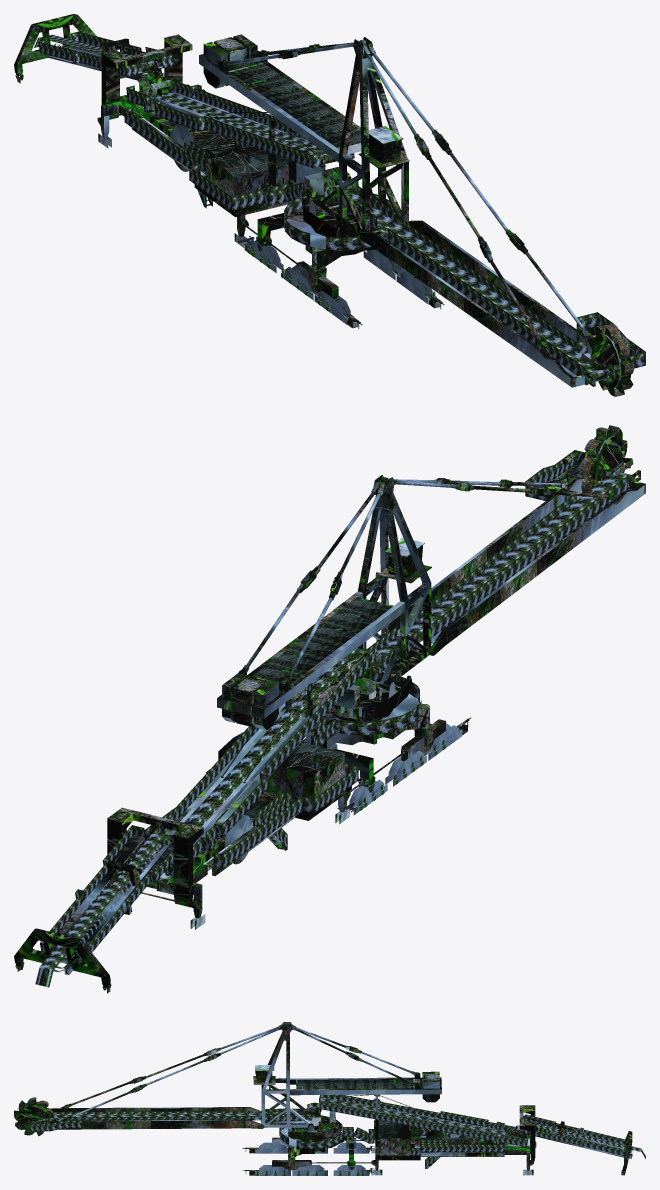
Rendered from DuiQuLiao.fbx.
The picture shows the model from 3 angles, top to bottom: view 1: azimuth 30°, elevation 25°; view 2: azimuth 150°, elevation 25°; view 3: azimuth 270°, elevation 25°; orthographic projection. The views are drawn at different scales.
Parts seen in each view (by area): view 1: fuyang, duiquliaoji, weiche, huizhuan, pidai2, weiche2, pidai3, doulun; view 2: fuyang, duiquliaoji, weiche, huizhuan, pidai3, pidai2, weiche2, doulun; view 3: fuyang, duiquliaoji, weiche, huizhuan, pidai2, pidai3, doulun, weiche2.
Boxes of the visible parts, left/top/right/bottom form: fuyang: left=199, top=34, right=645, bottom=387; duiquliaoji: left=97, top=70, right=444, bottom=329; weiche: left=14, top=14, right=174, bottom=83; huizhuan: left=284, top=172, right=393, bottom=250; pidai2: left=350, top=193, right=607, bottom=381; weiche2: left=101, top=34, right=192, bottom=119; pidai3: left=149, top=91, right=336, bottom=163; doulun: left=588, top=324, right=634, bottom=396; fuyang: left=217, top=440, right=645, bottom=730; duiquliaoji: left=144, top=647, right=471, bottom=929; weiche: left=14, top=825, right=173, bottom=993; huizhuan: left=315, top=675, right=421, bottom=735; pidai3: left=173, top=648, right=360, bottom=835; pidai2: left=362, top=472, right=631, bottom=679; weiche2: left=107, top=807, right=203, bottom=907; doulun: left=579, top=425, right=627, bottom=492; fuyang: left=29, top=1022, right=441, bottom=1131; duiquliaoji: left=242, top=1094, right=536, bottom=1175; weiche: left=522, top=1114, right=645, bottom=1175; huizhuan: left=279, top=1111, right=342, bottom=1148; pidai2: left=50, top=1112, right=312, bottom=1120; pidai3: left=319, top=1097, right=527, bottom=1139; doulun: left=14, top=1097, right=54, bottom=1136; weiche2: left=519, top=1105, right=535, bottom=1161.
Size of the model in its own units: 0.1292 by 0.2941 by 1.2.
